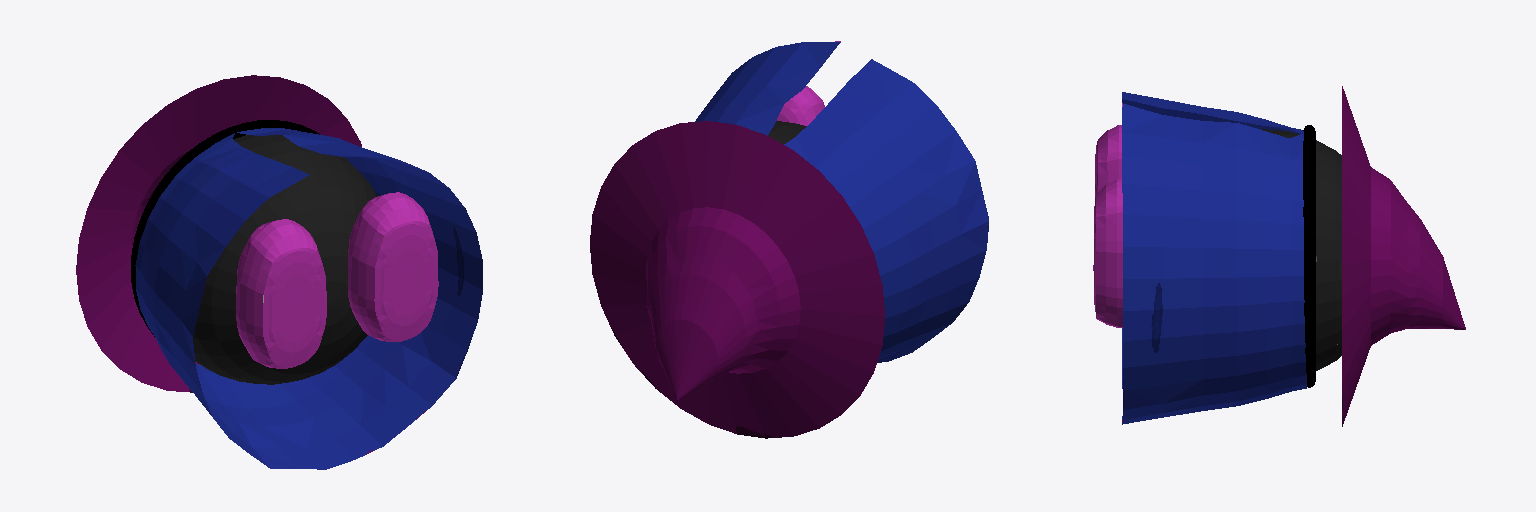
3 views of the same model, side by side, from view 1: azimuth 30°, elevation 25°; view 2: azimuth 150°, elevation 25°; view 3: azimuth 270°, elevation 25° (orthographic).
Visible parts, largest first — view 1: 円柱_円柱.001; view 2: 円柱_円柱.001; view 3: 円柱_円柱.001.
Part boxes in pixels (x1,y1,x2,y2): 円柱_円柱.001: (76,75,482,469); 円柱_円柱.001: (590,41,988,438); 円柱_円柱.001: (1093,86,1465,426).
Size of the model in its own units: 2.37 by 2.37 by 2.57.
Materials: 6 (1 with a texture image).